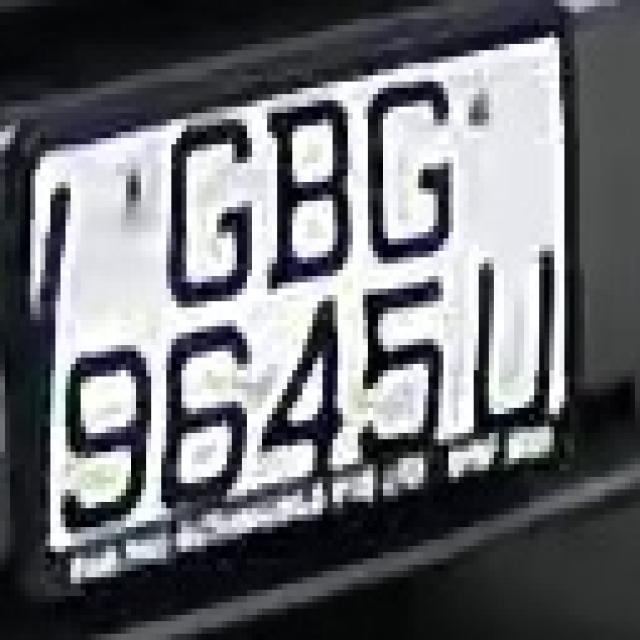4: (247, 282, 358, 464)
5: (348, 257, 453, 477)
6: (146, 332, 252, 520)
9: (50, 320, 162, 527)
B: (247, 75, 363, 289)
G: (156, 88, 267, 314), (358, 44, 463, 276)
U: (464, 251, 564, 445)
